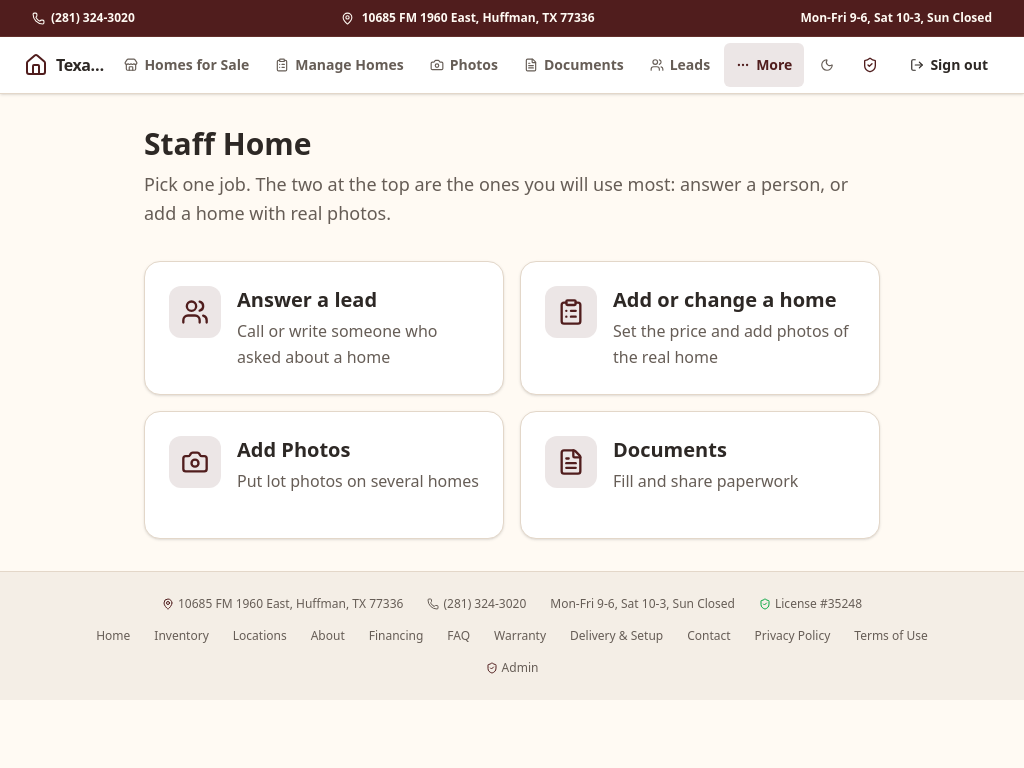
Test: staff header at laptop widths › uses distinct public vs staff home labels and keeps Sign out reachable
Expected: the heading "Staff Home" is shown, [144,123,311,164]
Expected: the button "Homes for Sale" is shown, [112,43,261,87]
Click the button "More" at (764, 65), box [724,43,804,87]
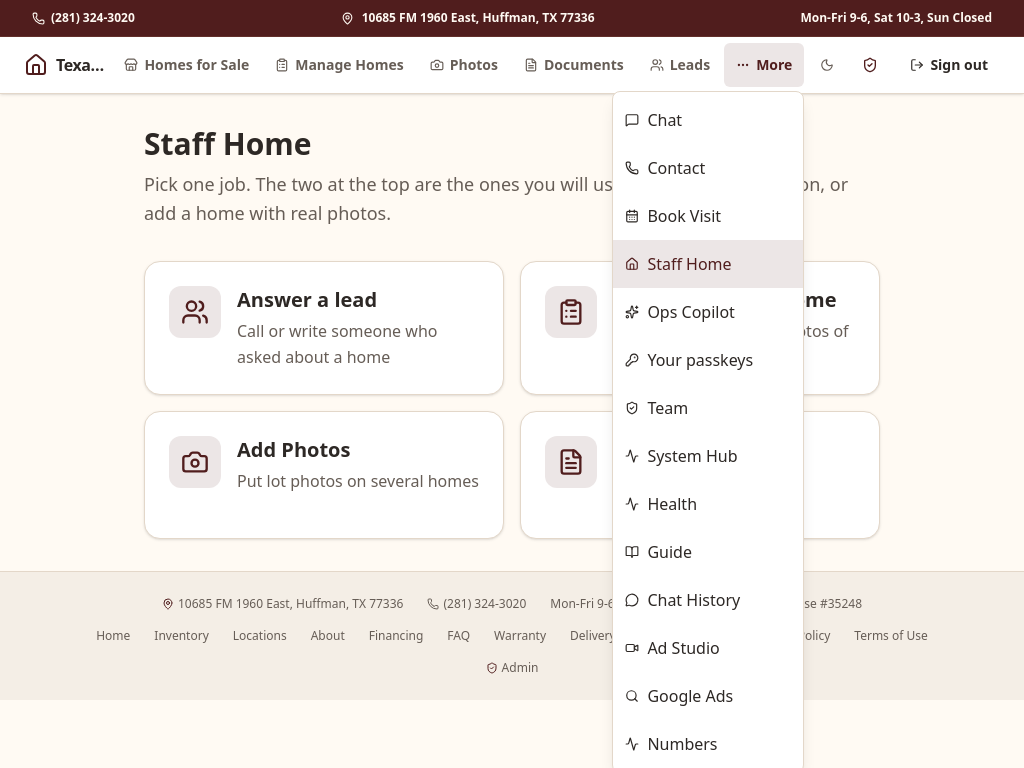
Expected: the menu item "Ops Copilot" is shown, [613,288,803,336]
Expected: the menu item "Numbers" is shown, [613,720,803,767]
